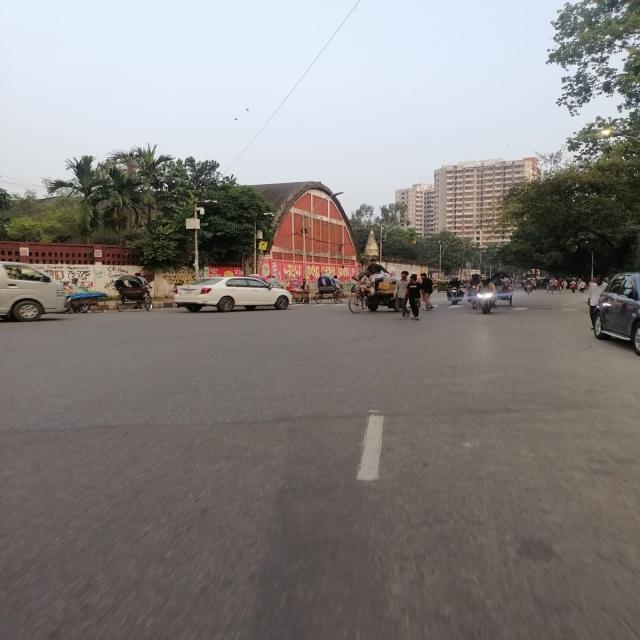person: (394, 270, 410, 320), (406, 274, 422, 320)
